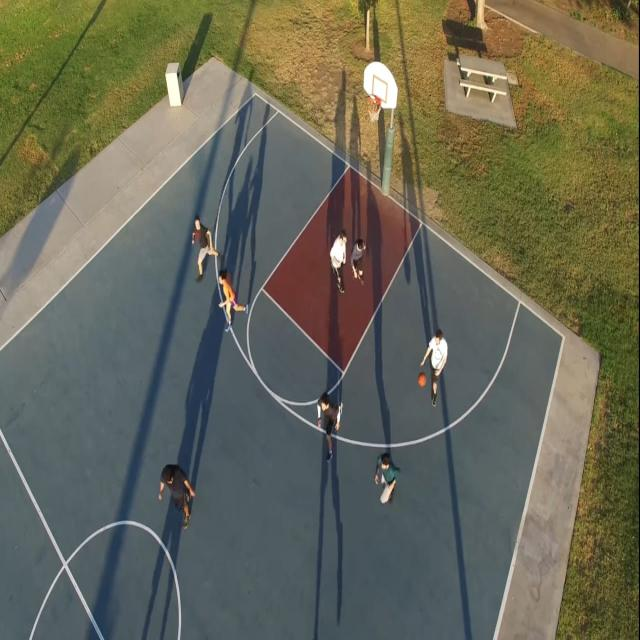humans: (156, 460, 198, 533), (217, 266, 252, 338), (188, 208, 220, 284), (316, 388, 346, 467), (424, 322, 448, 410), (372, 445, 403, 513), (327, 225, 350, 295), (349, 232, 368, 286)
